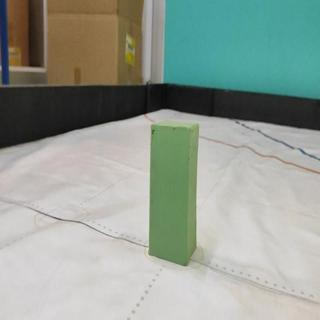greenbox: (149, 119, 201, 268)
